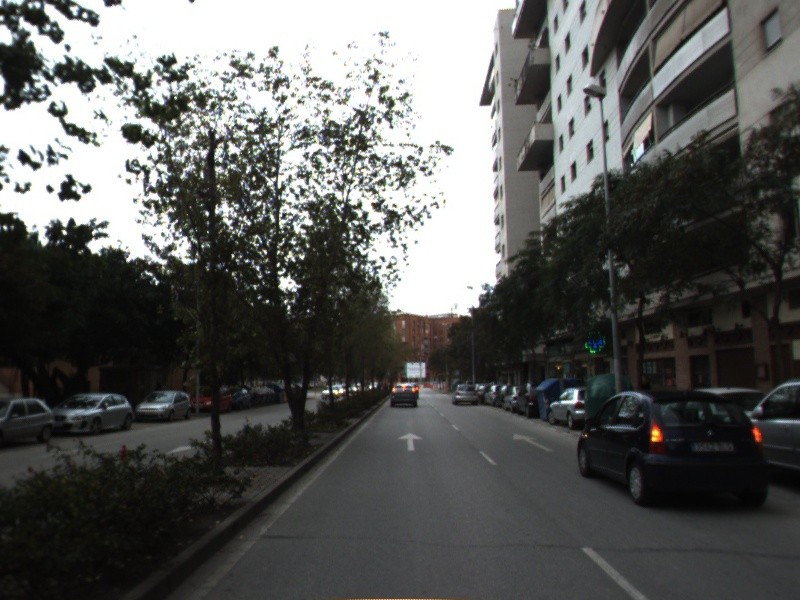STRAIGHT: (511, 431, 555, 453), (396, 430, 426, 453)
